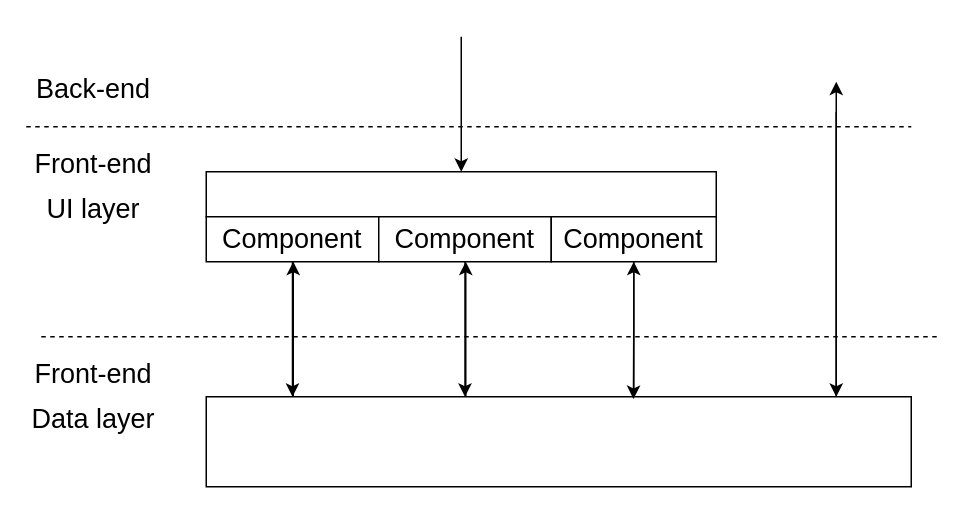
Image size: 969x513. Some labels were removed from this diagram. The shapes that lost their labels are listed below. From the top down, each one's centre as x and y in pixels, then its label:
At (460,193): "UI".
At (558,441): "Store".
